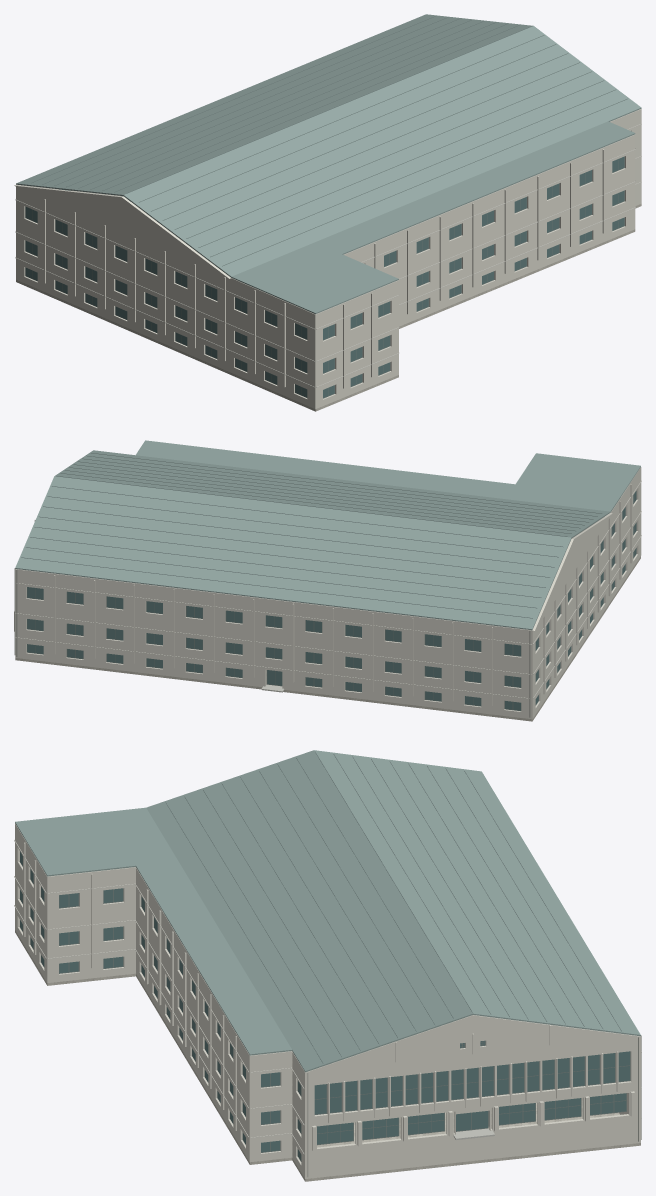
3 renders of one model, top to bottom at view 1: azimuth 30°, elevation 25°; view 2: azimuth 150°, elevation 25°; view 3: azimuth 270°, elevation 25°, orthographic. The views are drawn at different scales.
Parts seen in each view (by area): view 1: yugwansun__roof, yugwansun__wall, yugwansun__glass, yugwansun__roof-seam, yugwansun__pier, yugwansun__beam, yugwansun__frame, yugwansun__stone; view 2: yugwansun__roof, yugwansun__wall, yugwansun__roof-seam, yugwansun__glass, yugwansun__pier, yugwansun__beam, yugwansun__frame, yugwansun__stone, yugwansun__pipe; view 3: yugwansun__roof, yugwansun__wall, yugwansun__glass, yugwansun__roof-seam, yugwansun__pier, yugwansun__frame, yugwansun__stone, yugwansun__beam.
Part boxes in pixels (left/top/right/bottom): yugwansun__roof: left=16, top=14, right=641, bottom=314; yugwansun__wall: left=14, top=109, right=641, bottom=409; yugwansun__glass: left=25, top=157, right=624, bottom=397; yugwansun__roof-seam: left=31, top=15, right=627, bottom=266; yugwansun__pier: left=44, top=149, right=604, bottom=388; yugwansun__beam: left=15, top=123, right=641, bottom=387; yugwansun__frame: left=25, top=156, right=624, bottom=398; yugwansun__stone: left=16, top=203, right=641, bottom=411; yugwansun__roof: left=15, top=440, right=640, bottom=630; yugwansun__wall: left=15, top=467, right=641, bottom=719; yugwansun__roof-seam: left=21, top=453, right=602, bottom=618; yugwansun__glass: left=27, top=491, right=636, bottom=710; yugwansun__pier: left=14, top=484, right=631, bottom=706; yugwansun__beam: left=15, top=480, right=641, bottom=699; yugwansun__frame: left=27, top=490, right=636, bottom=711; yugwansun__stone: left=15, top=552, right=640, bottom=721; yugwansun__pipe: left=14, top=568, right=530, bottom=717; yugwansun__roof: left=15, top=750, right=640, bottom=1072; yugwansun__wall: left=15, top=823, right=640, bottom=1178; yugwansun__glass: left=20, top=851, right=629, bottom=1161; yugwansun__roof-seam: left=166, top=751, right=621, bottom=1063; yugwansun__pier: left=24, top=842, right=634, bottom=1151; yugwansun__frame: left=19, top=855, right=630, bottom=1161; yugwansun__stone: left=15, top=930, right=640, bottom=1181; yugwansun__beam: left=14, top=839, right=641, bottom=1154.
Size of the model in its own units: 81.29 by 18.93 by 71.51.
10 materials, 1 textured.
